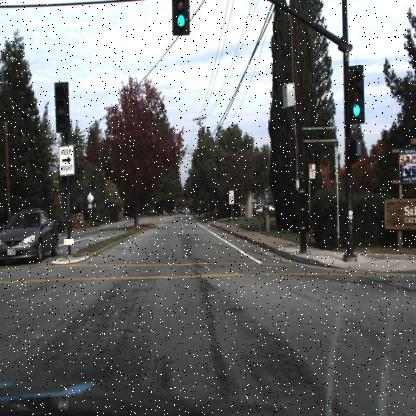car: (0, 206, 60, 266), (249, 199, 278, 219)
